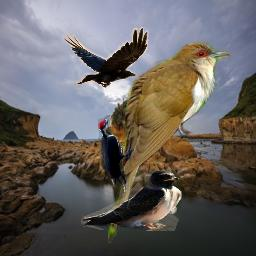Crow: (62, 27, 149, 88)
Cuckoo: (108, 40, 230, 244)
Swallow: (80, 170, 182, 231)
Woodpecker: (98, 115, 134, 193)
